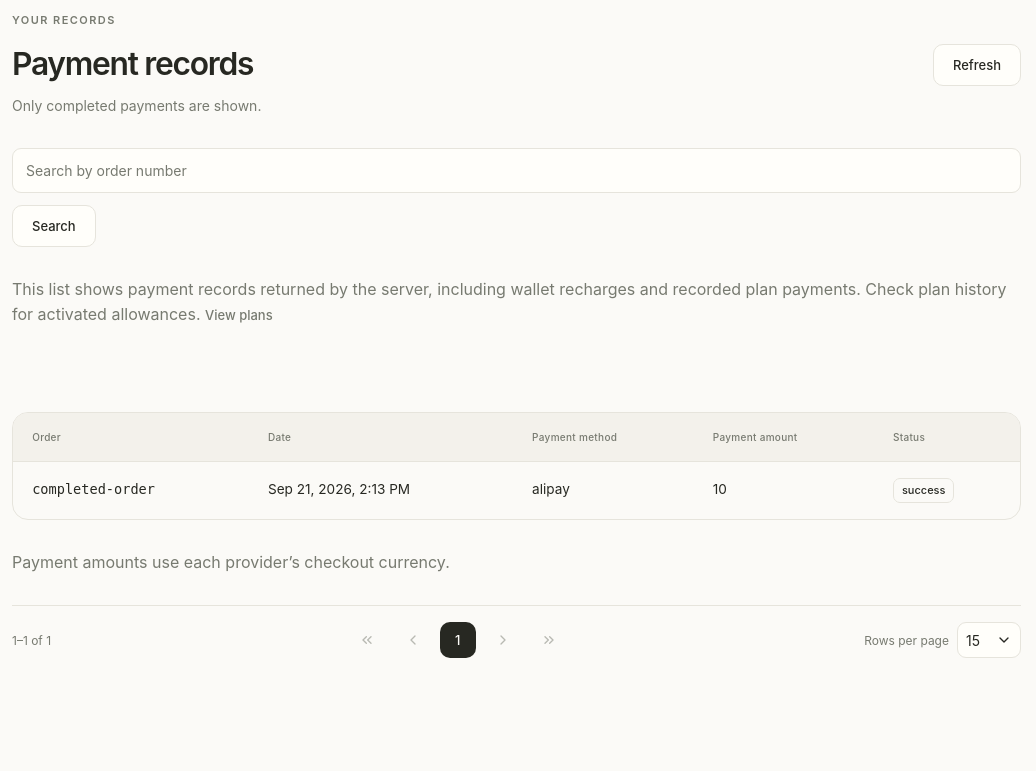
Test: shows only completed payments from the server and explains an empty payment history
The width and height of the screenshot is (1036, 771).
Expected: the text "completed-order" is shown, [32,481,155,497]
Expected: the text "Only completed payments are shown." is shown, [12,95,261,118]
Type "missing" into the field named "Search orders" at (516, 170), box [12,148,1021,193]
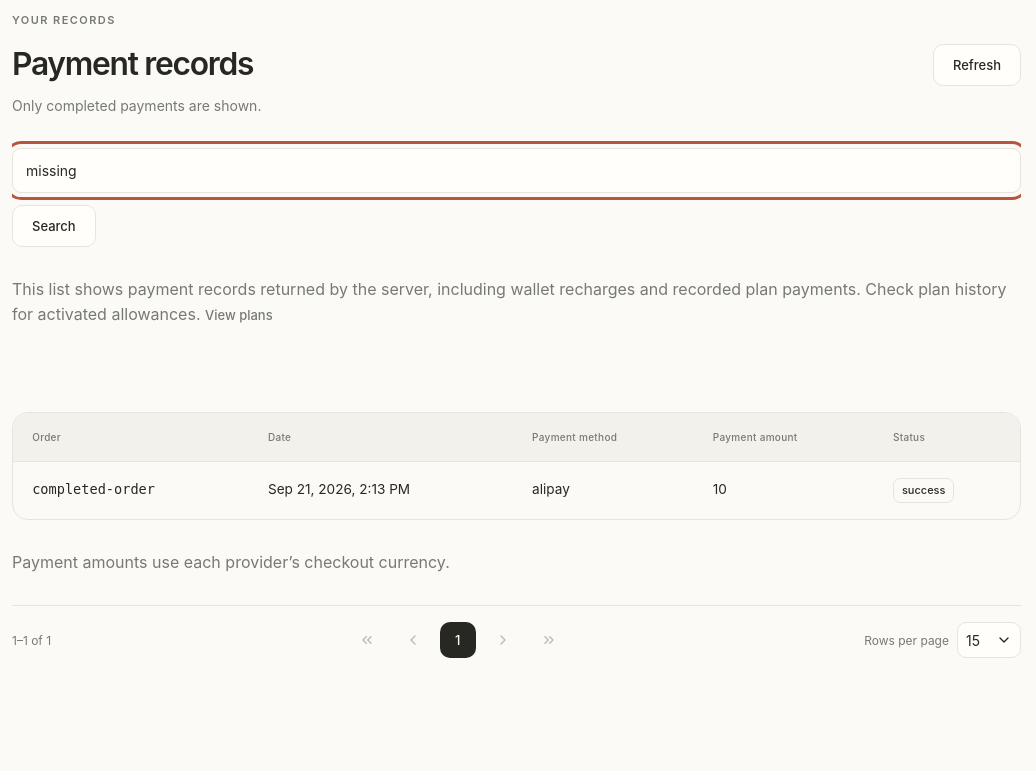
Click the button "Search" at (54, 226), box [12,205,96,247]
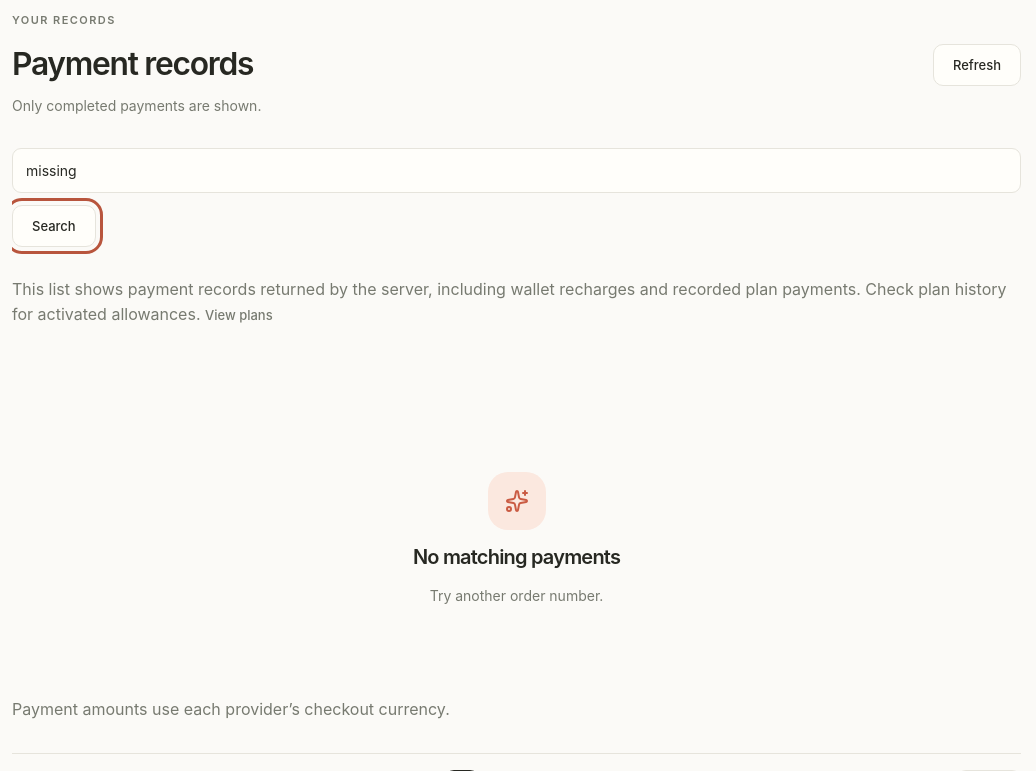
Result: the heading "No matching payments" is shown at [413,545,620,570]
Result: the text "completed-order" is gone
